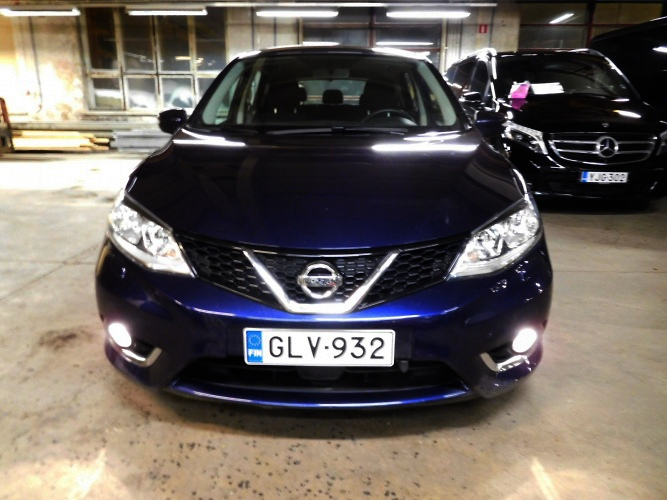license: (244, 328, 391, 371)
